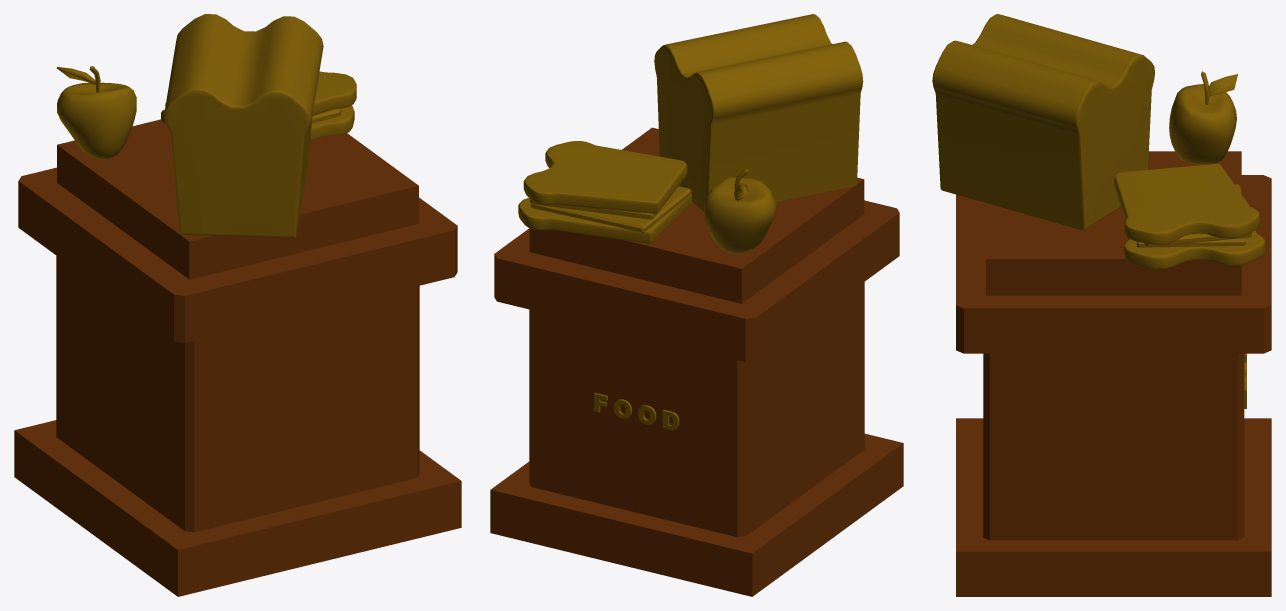
File: mesh_Weight_Food.fbx
3 views of the same model, side by side, from view 1: azimuth 30°, elevation 25°; view 2: azimuth 150°, elevation 25°; view 3: azimuth 270°, elevation 25° (orthographic). The views are drawn at different scales.
Visible parts, largest first — view 1: model_Weight_Food; view 2: model_Weight_Food; view 3: model_Weight_Food.
Boxes of the visible parts, x1,y1,x2,y2 form: model_Weight_Food: (14, 14, 461, 596); model_Weight_Food: (490, 14, 903, 596); model_Weight_Food: (932, 14, 1271, 596).
Bounding box in the file's own units: 3.77 × 6.15 × 4.05.
